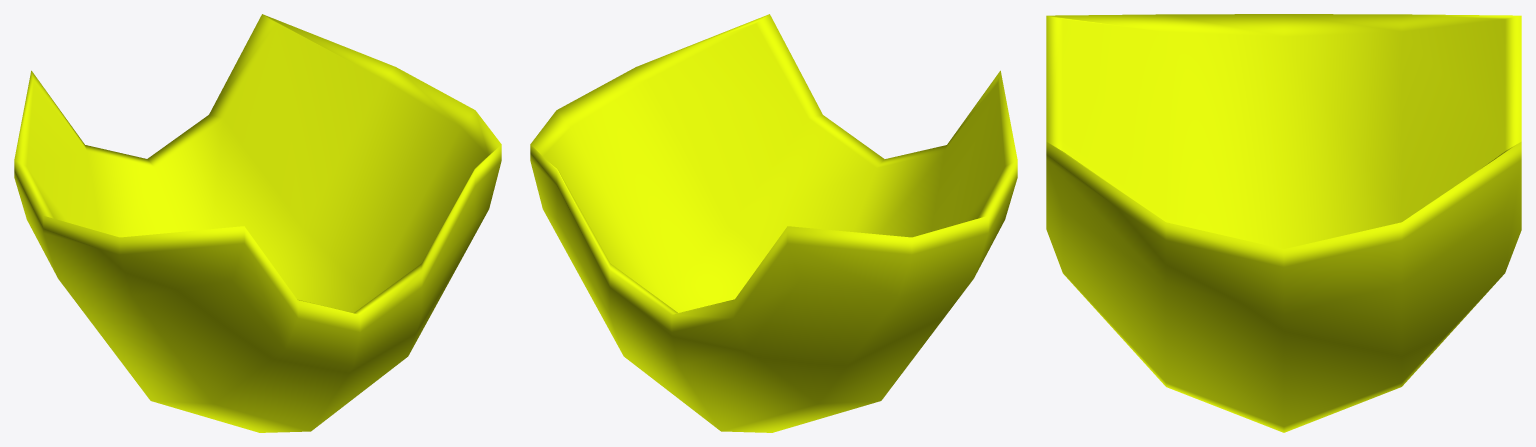
File: Bowl2.FBX
The picture shows the model from 3 angles, left to right: view 1: azimuth 30°, elevation 25°; view 2: azimuth 150°, elevation 25°; view 3: azimuth 270°, elevation 25°; orthographic projection. The views are drawn at different scales.
Parts seen in each view (by area): view 1: Box020; view 2: Box020; view 3: Box020.
Part boxes in pixels (box(x1,y1,x2,y2)): Box020: box(14, 14, 501, 432); Box020: box(530, 14, 1017, 432); Box020: box(1046, 14, 1521, 432).
Bounding box in the file's own units: 0.2567 × 0.1787 × 0.2193.
